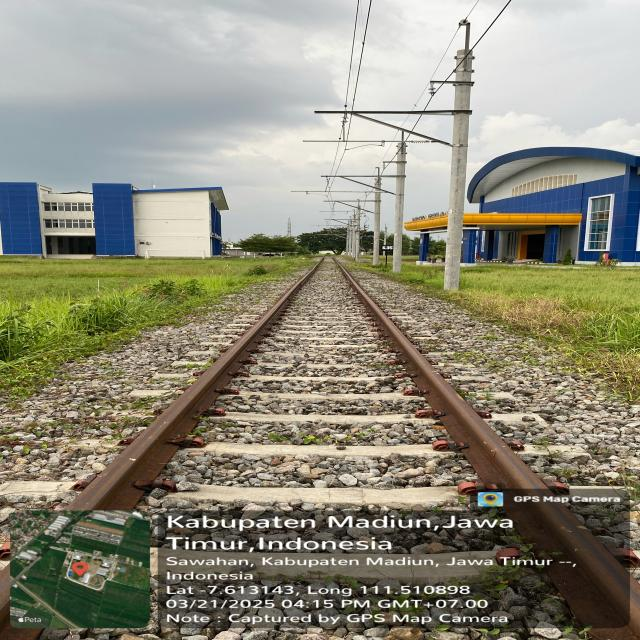rail-detection: (333, 257, 640, 635), (70, 256, 324, 510)
